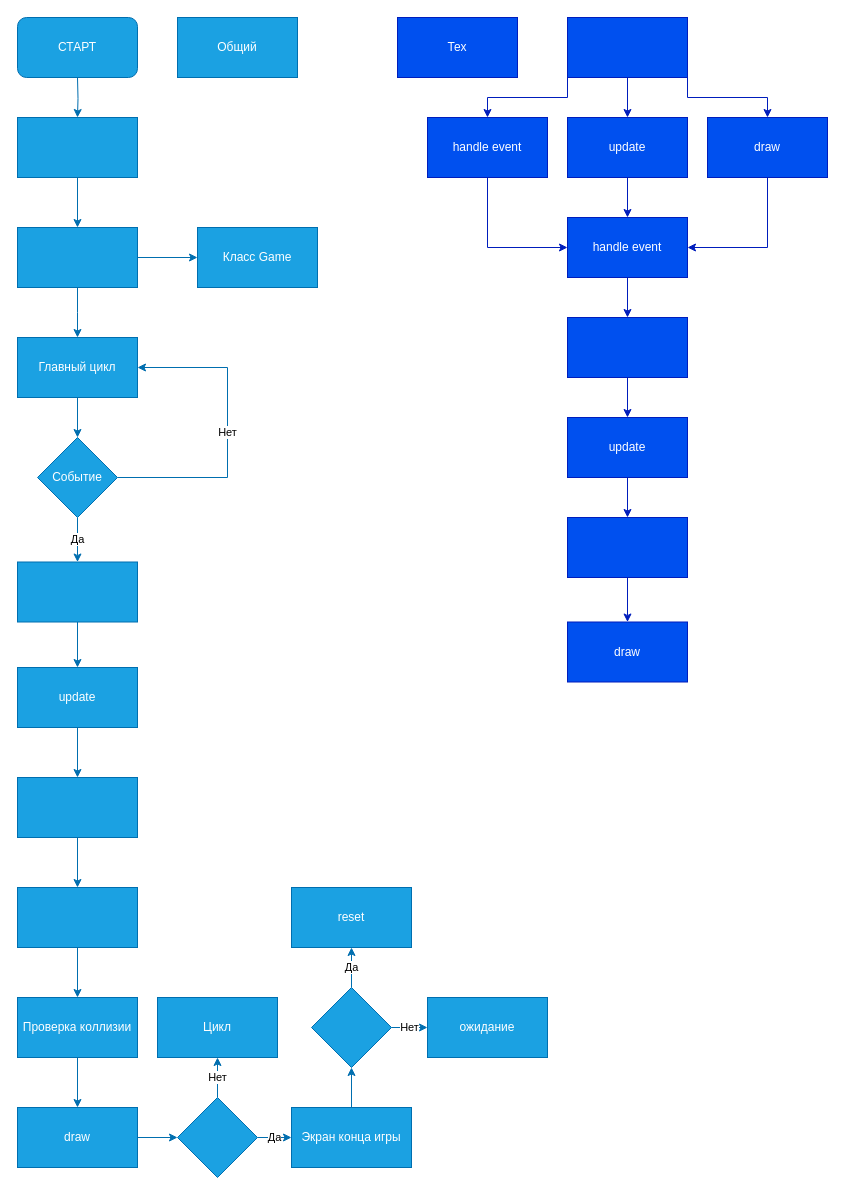
Image size: 845x1195. Some labels were removed from this diagram. Each missing label, with the centre of its shape:
check word: [627,347]
game over?: [217,1137]
init: [627,47]
Restart?: [351,1027]
spawn: [627,547]
spawn enemy по таймеру: [77,807]
движение врагов: [77,917]
Инициация: [77,147]
Обработка event: [77,591]
Создание объекта: [77,257]
